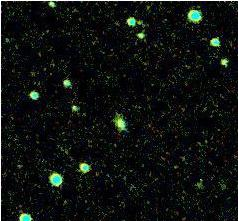star: (125, 4, 155, 34)
